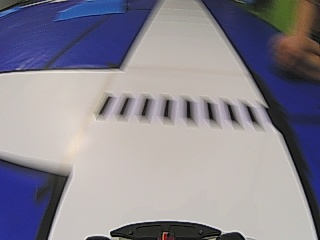CrossWalk: (95, 96, 259, 127)
